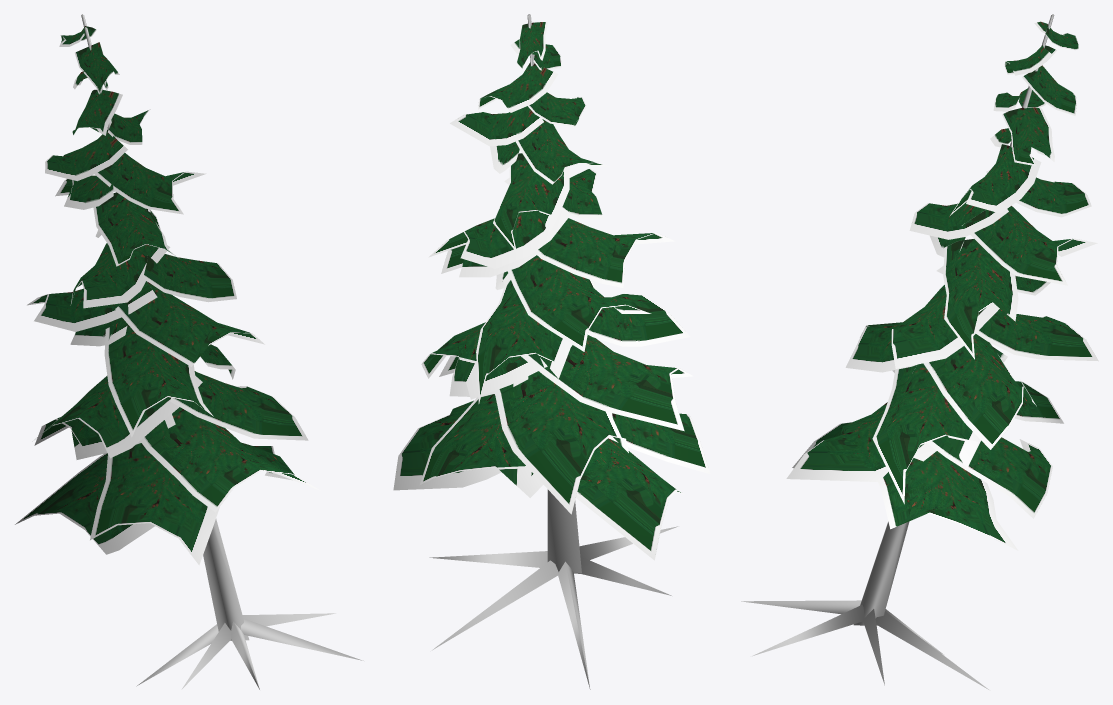
The model's file is Pine_3_LOD2.fbx.
3 views of the same model, side by side, from view 1: azimuth 30°, elevation 25°; view 2: azimuth 150°, elevation 25°; view 3: azimuth 270°, elevation 25° (orthographic). The views are drawn at different scales.
Visible parts, largest first — view 1: Tree_1, Tree_0; view 2: Tree_1, Tree_0; view 3: Tree_1, Tree_0.
Part boxes in pixels (x1,y1,x2,y2): Tree_1: (15,26,320,565); Tree_0: (81,14,363,689); Tree_1: (393,22,710,560); Tree_0: (429,14,678,689); Tree_1: (786,21,1098,550); Tree_0: (741,14,1054,689).
Bounding box in the file's own units: 138 × 315 × 160.
